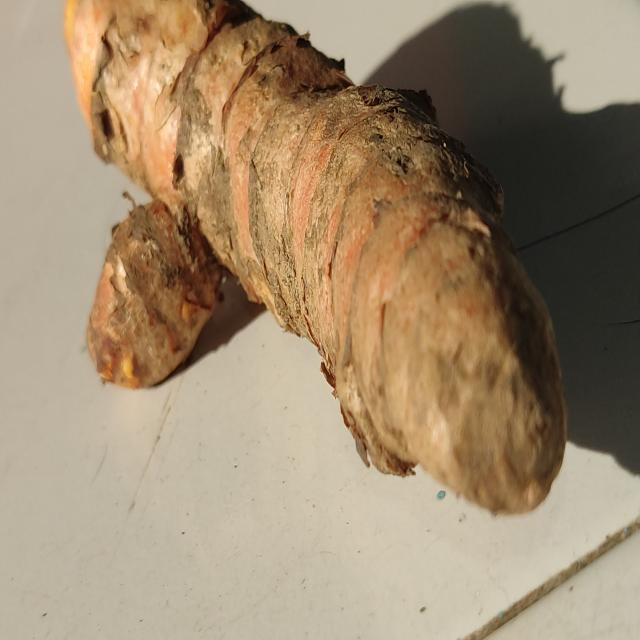ginger: (69, 0, 564, 512)
